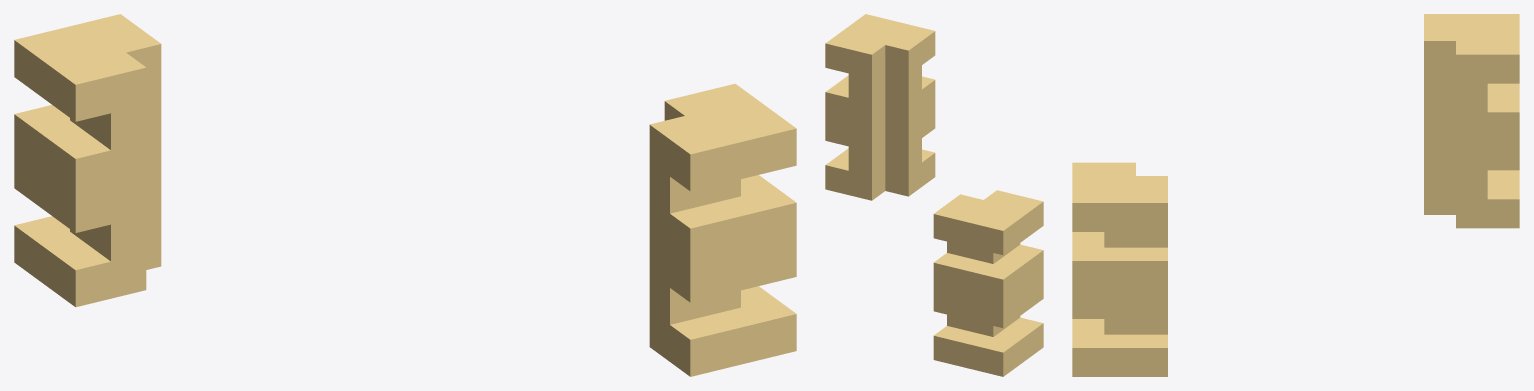
Rendered from BS_Pillar_Ring_1.fbx.
The picture shows the model from 3 angles, left to right: view 1: azimuth 30°, elevation 25°; view 2: azimuth 150°, elevation 25°; view 3: azimuth 270°, elevation 25°; orthographic projection. The views are drawn at different scales.
Visible parts, largest first — view 1: BS_Pillar_Ring_1; view 2: BS_Pillar_Ring_1; view 3: BS_Pillar_Ring_1.
Part boxes in pixels (bbox=[...]): BS_Pillar_Ring_1: bbox=[14, 14, 796, 376]; BS_Pillar_Ring_1: bbox=[825, 14, 1043, 376]; BS_Pillar_Ring_1: bbox=[1072, 14, 1519, 376].
Size of the model in its own units: 35 by 35 by 15.
